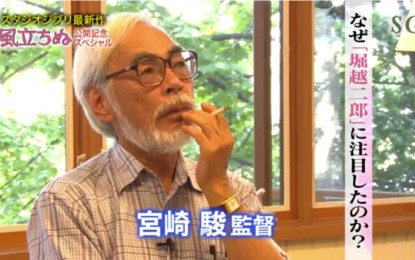cigarette: (210, 104, 230, 116)
